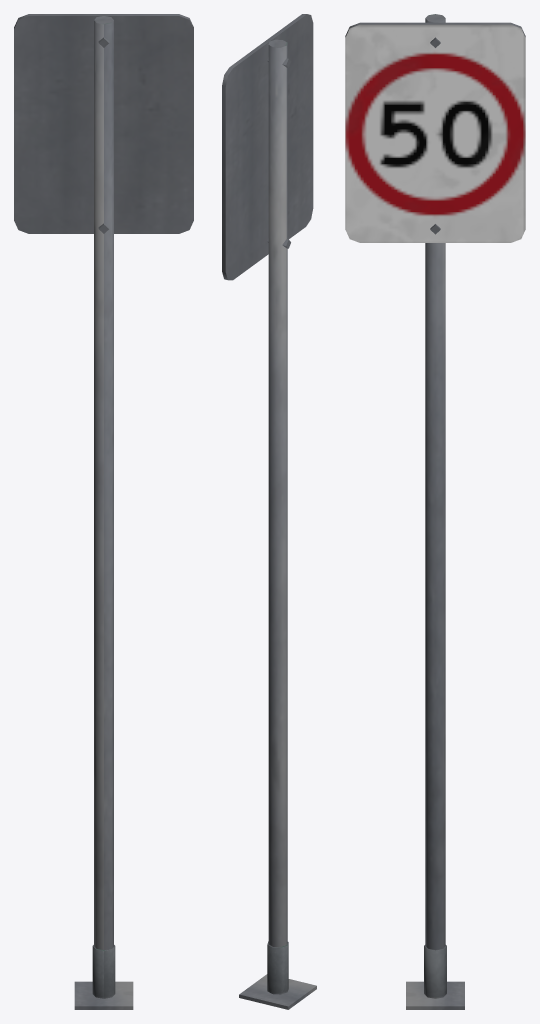
The model's file is speed_limit.glb.
3 renders of one model, left to right at view 1: azimuth 90°, elevation 25°; view 2: azimuth 150°, elevation 25°; view 3: azimuth 270°, elevation 25°, orthographic. The views are drawn at different scales.
Parts seen in each view (by area): view 1: Object_182, Object_332; view 2: Object_332, Object_182; view 3: Object_182, Object_332.
Boxes of the visible parts, x1,y1,x2,y2 form: Object_182: (14, 14, 193, 233); Object_332: (74, 16, 133, 1009); Object_332: (239, 39, 316, 1009); Object_182: (222, 14, 313, 280); Object_182: (345, 22, 525, 242); Object_332: (406, 14, 464, 1009).
Size of the model in its own units: 0.6 by 11.04 by 1.84.
Materials: 1 (1 with a texture image).
